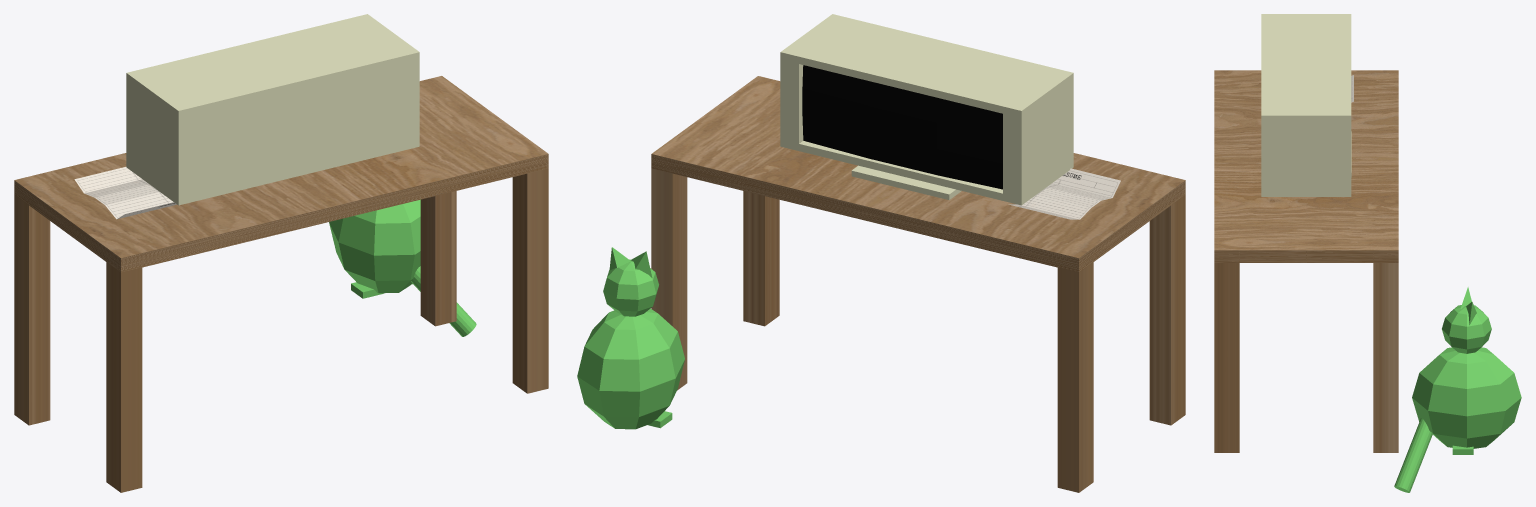
The model's file is Desktop.glb.
3 renders of one model, left to right at view 1: azimuth 30°, elevation 25°; view 2: azimuth 150°, elevation 25°; view 3: azimuth 270°, elevation 25°, orthographic. The views are drawn at different scales.
Parts seen in each view (by area): view 1: Table.002, Cube, Cone.001, Resume; view 2: Table.002, Cube, Cone.001, Resume; view 3: Table.002, Cube, Cone.001.
Part boxes in pixels (x1,y1,x2,y2): Table.002: [14, 76, 548, 492]; Cube: [126, 14, 419, 205]; Cone.001: [329, 199, 476, 336]; Resume: [74, 167, 176, 219]; Table.002: [651, 76, 1185, 492]; Cube: [780, 14, 1073, 205]; Cone.001: [577, 247, 684, 429]; Resume: [1008, 168, 1120, 219]; Table.002: [1214, 70, 1398, 452]; Cube: [1261, 14, 1351, 196]; Cone.001: [1394, 287, 1521, 492].
Bounding box in the file's own units: 10.28 × 7.94 × 6.83.
Materials: 6 (2 with a texture image).
